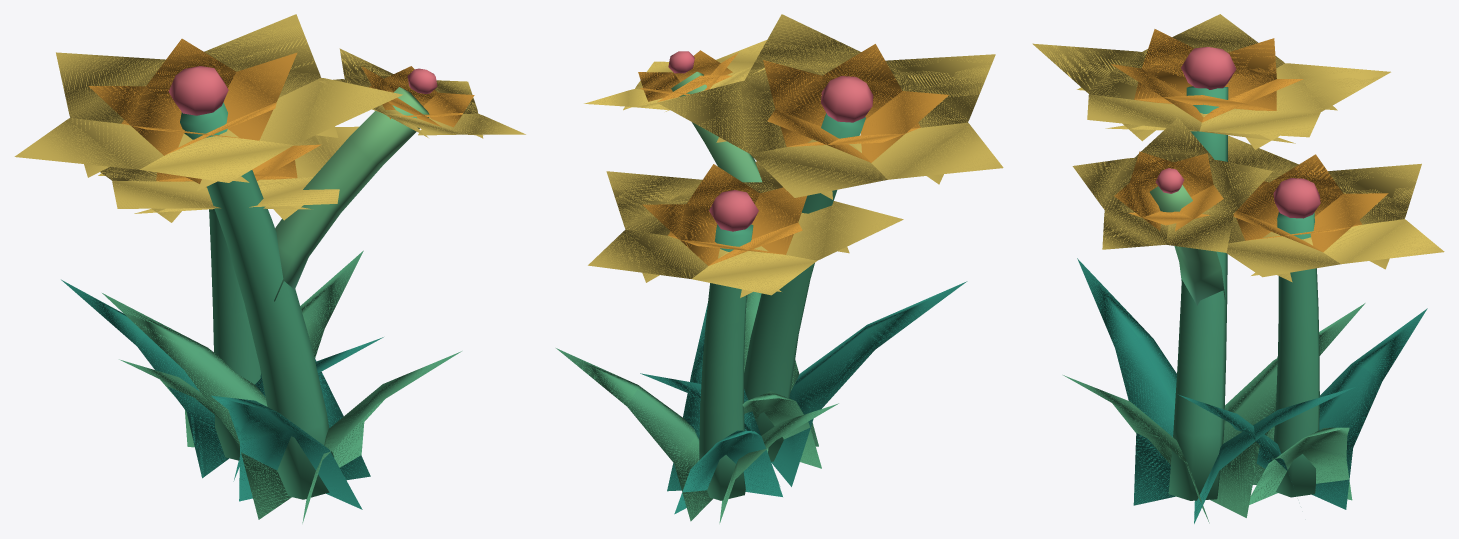
Rendered from verdant_flower_star.glb.
3 renders of one model, left to right at view 1: azimuth 30°, elevation 25°; view 2: azimuth 150°, elevation 25°; view 3: azimuth 270°, elevation 25°, orthographic. The views are drawn at different scales.
Visible parts, largest first — view 1: verdant_flower_star; view 2: verdant_flower_star; view 3: verdant_flower_star.
Part boxes in pixels (bbox=[...]): verdant_flower_star: bbox=[14, 14, 525, 523]; verdant_flower_star: bbox=[556, 14, 1003, 523]; verdant_flower_star: bbox=[1032, 14, 1444, 523].
Size of the model in its own units: 0.5379 by 0.5089 by 0.4609.
